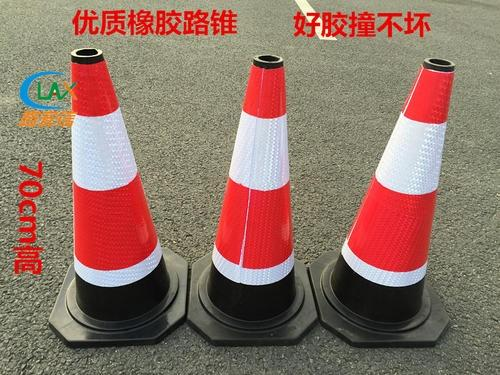cone_barrel: (317, 60, 466, 332), (46, 48, 179, 333), (190, 58, 307, 326), (11, 193, 40, 263)
